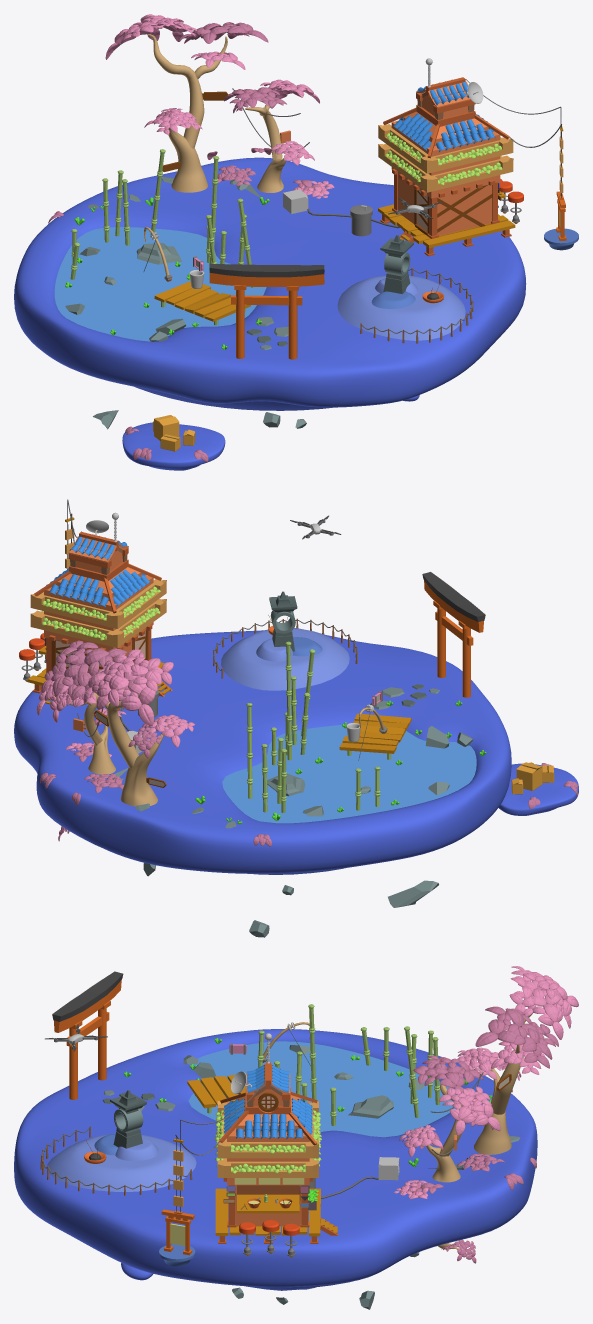
File: japan-island3.glb
3 renders of one model, top to bottom at view 1: azimuth 30°, elevation 25°; view 2: azimuth 150°, elevation 25°; view 3: azimuth 270°, elevation 25°, orthographic. The views are drawn at different scales.
Parts seen in each view (by area): view 1: base.001, house, water, leaf, land-2, bamboo, door, tree, rock, altar, signal, box (+2 smaller); view 2: base.001, water, house, leaf, bamboo, land-2, rock, tree, door, altar, box, feends (+2 smaller); view 3: base.001, house, leaf, water, land-2, bamboo, door, tree, rock, signal, altar, chest (+1 smaller).
Part boxes in pixels (x1,y1,x2,y2): base.001: (14,157,526,470); house: (232,58,561,256); water: (54,227,266,341); leaf: (48,14,334,461); land-2: (337,275,465,340); bamboo: (70,149,254,325); door: (209,263,324,359); tree: (147,34,285,192); rock: (65,177,306,429); altar: (380,235,443,303); signal: (544,107,578,250); box: (153,415,195,451); base.001: (14,630,578,874); water: (222,724,476,823); house: (27,499,172,753); leaf: (36,640,578,846); bamboo: (246,641,411,812); land-2: (221,628,349,690); rock: (112,684,473,937); tree: (66,693,167,806); door: (422,572,485,697); altar: (268,591,297,651); box: (511,762,554,794); feends: (213,618,357,678); base.001: (14,1029,537,1290); house: (175,1033,483,1243); leaf: (394,966,578,1263); water: (188,1041,455,1137); land-2: (46,1133,196,1191); bamboo: (187,1004,440,1125); door: (52,971,123,1099); tree: (426,1012,533,1249); rock: (102,1045,520,1309); signal: (159,1120,195,1266); altar: (84,1090,146,1163); chest: (239,1220,299,1256).
Size of the model in its own units: 10.94 by 7.03 by 10.72.
